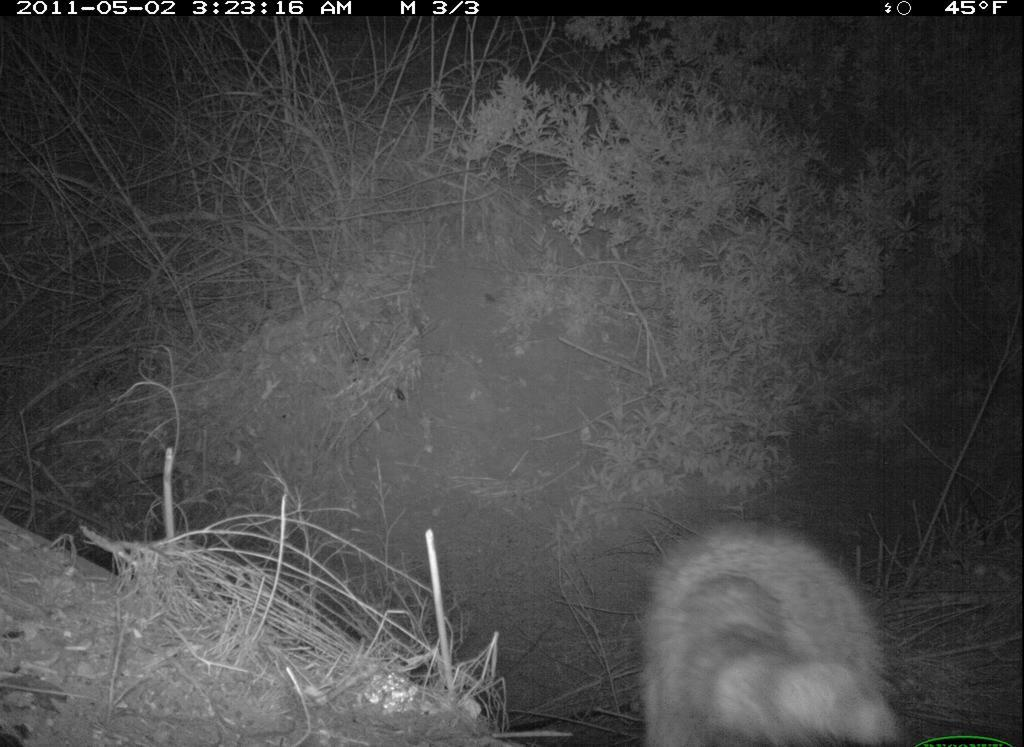raccoon: (638, 516, 908, 747)
